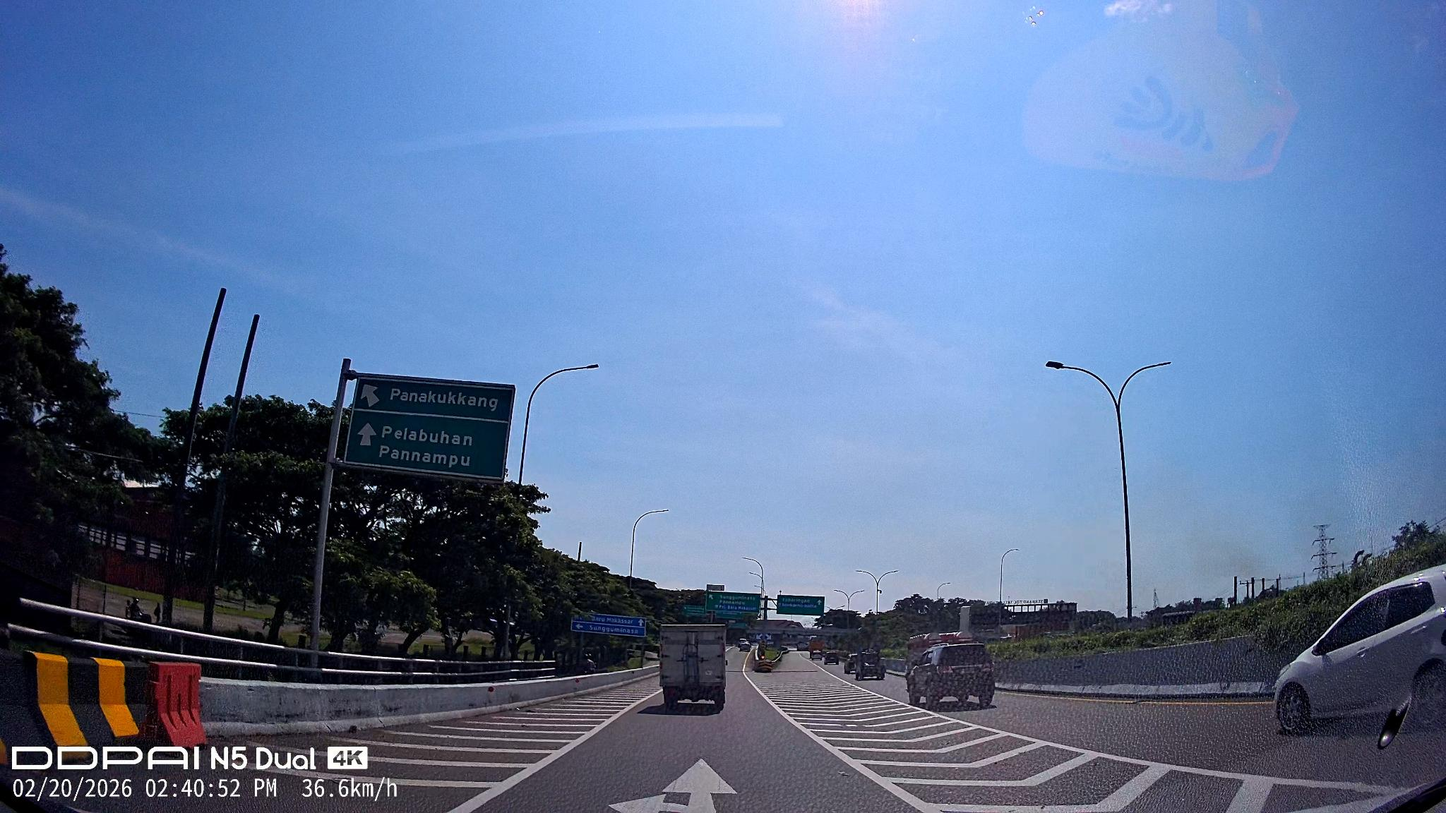rambu_teks: (349, 374, 516, 480)
